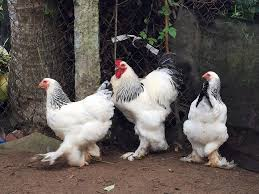Gà/Chicken: (26, 68, 116, 176), (108, 54, 186, 170), (183, 64, 238, 178)
